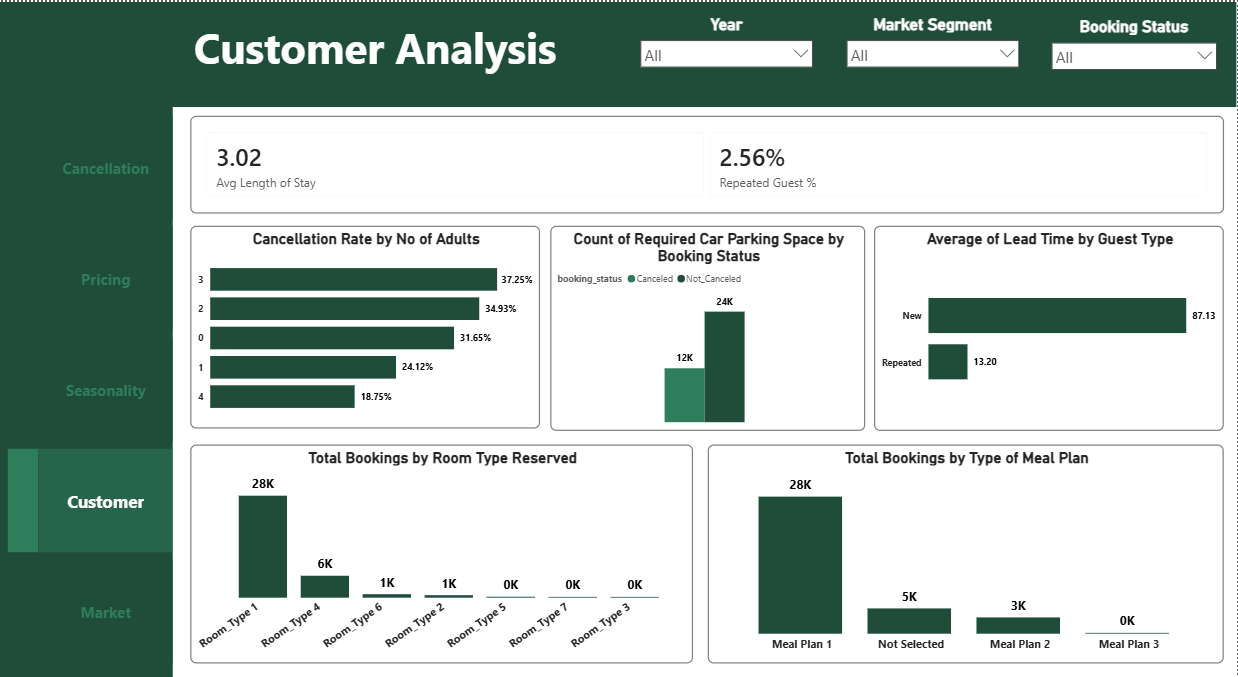

What the dashboard file says about the page in this screenshot:
{"tool":"powerbi","page":{"name":"Customer","canvas":[1650,900],"ordinal":3},"visuals":[{"type":"clusteredColumnChart","title":"Total Bookings by Room Type Reserved","fields":{"Category":["Room.room_type_reserved"],"Y":["Measure.Total Bookings"]},"box":[255,590,670,291.7],"z":0},{"type":"clusteredColumnChart","title":"Total Bookings by Type of Meal Plan","fields":{"Y":["Measure.Total Bookings"],"Category":["Meal.type_of_meal_plan"]},"box":[945,590,688.3,291.7],"z":1000},{"type":"cardVisual","fields":{"Data":["Measure.Avg Length of Stay","Measure.Repeated Guest %"]},"box":[255,151.7,1378.3,130],"z":2000},{"type":"clusteredColumnChart","title":"Count of Required Car Parking Space by Booking Status","fields":{"Y":["CountNonNull(Hotel Reservations.required_car_parking_space)"],"Series":["Booking Status.booking_status"]},"box":[734.2,298.3,420,273.3],"z":3000},{"type":"shape","box":[165,0,1485,140],"z":4000},{"type":"shape","box":[0,0,231.7,900],"z":5000},{"type":"pageNavigator","box":[53.3,151.7,178.3,730],"z":6000},{"type":"pageNavigator","box":[11.7,151.7,41.7,730],"z":7000},{"type":"textbox","box":[255,16.7,693.3,105],"z":8000},{"type":"slicer","title":"Year","fields":{"Values":["Date.Year"]},"box":[845,16.7,250,78.3],"z":9000},{"type":"slicer","title":"Market Segment","fields":{"Values":["Market.market_segment_type"]},"box":[1119.2,16.7,250,78.3],"z":10000},{"type":"slicer","title":"Booking Status","fields":{"Values":["Booking Status.booking_status"]},"box":[1393.3,20,240,78.3],"z":11000},{"type":"clusteredBarChart","title":"Average of Lead Time by Guest Type","fields":{"Category":["Repeated Guest.Guest Type"],"Y":["Avg(Hotel Reservations.lead_time)"]},"box":[1166.7,298.3,466.7,273.3],"z":12000},{"type":"clusteredBarChart","title":"Cancellation Rate by No of Adults","fields":{"Y":["Measure.Cancellation Rate"],"Category":["Hotel Reservations.no_of_adults"]},"box":[255,298.3,466.7,270],"z":13000}]}

Visuals, with their boxes on the page's 1650x900 design canvas (x1, y1, x2, y2). These are canvas units, not pixel positions in the 1238x677 screenshot, which may show the page scaled, cropped or inside an application window:
"Total Bookings by Room Type Reserved" clusteredColumnChart: <bbox>255, 590, 925, 882</bbox>
"Total Bookings by Type of Meal Plan" clusteredColumnChart: <bbox>945, 590, 1633, 882</bbox>
cardVisual - Measure.Avg Length of Stay x Measure.Repeated Guest %: <bbox>255, 152, 1633, 282</bbox>
"Count of Required Car Parking Space by Booking Status" clusteredColumnChart: <bbox>734, 298, 1154, 572</bbox>
shape: <bbox>165, 0, 1650, 140</bbox>
shape: <bbox>0, 0, 232, 900</bbox>
pageNavigator: <bbox>53, 152, 232, 882</bbox>
pageNavigator: <bbox>12, 152, 53, 882</bbox>
textbox: <bbox>255, 17, 948, 122</bbox>
"Year" slicer: <bbox>845, 17, 1095, 95</bbox>
"Market Segment" slicer: <bbox>1119, 17, 1369, 95</bbox>
"Booking Status" slicer: <bbox>1393, 20, 1633, 98</bbox>
"Average of Lead Time by Guest Type" clusteredBarChart: <bbox>1167, 298, 1633, 572</bbox>
"Cancellation Rate by No of Adults" clusteredBarChart: <bbox>255, 298, 722, 568</bbox>
